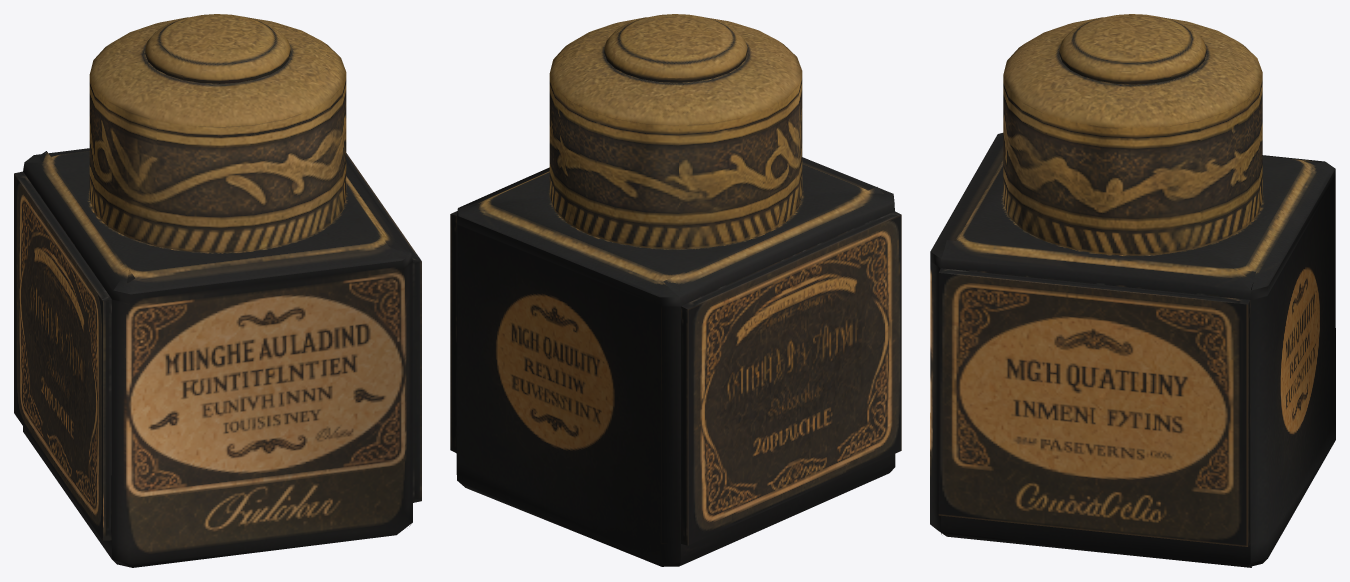
File: InkBottle.fbx
The picture shows the model from 3 angles, left to right: view 1: azimuth 30°, elevation 25°; view 2: azimuth 150°, elevation 25°; view 3: azimuth 270°, elevation 25°; orthographic projection. The views are drawn at different scales.
Parts seen in each view (by area): view 1: InkBottle_Low; view 2: InkBottle_Low; view 3: InkBottle_Low.
Boxes of the visible parts, left/top/right/bottom form: InkBottle_Low: left=14, top=14, right=421, bottom=567; InkBottle_Low: left=450, top=14, right=901, bottom=566; InkBottle_Low: left=930, top=14, right=1335, bottom=567.
Size of the model in its own units: 0.1868 by 0.2343 by 0.1887.
